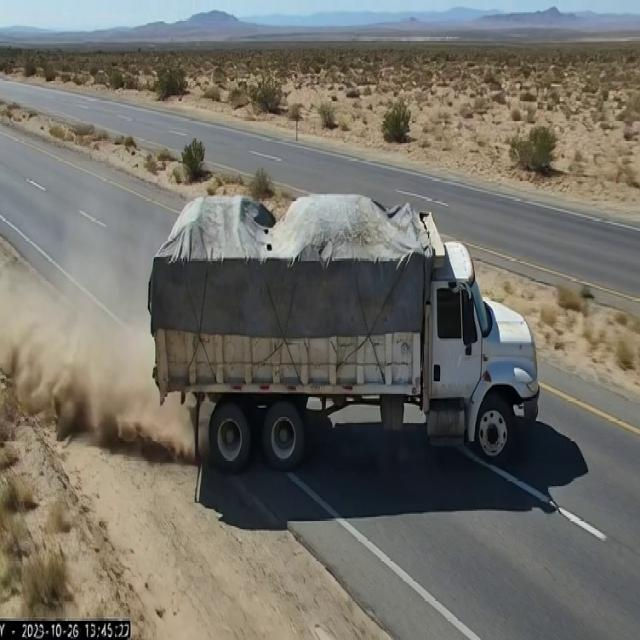Box: (145, 204, 469, 282)
Truck: (137, 197, 544, 502)
